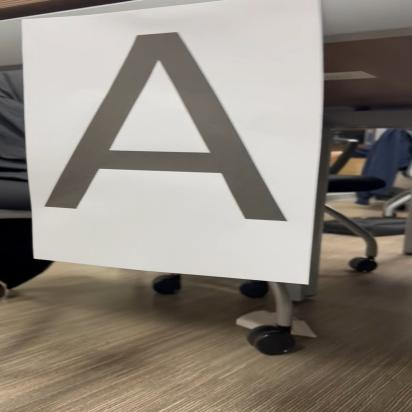seat: (41, 27, 295, 226)
